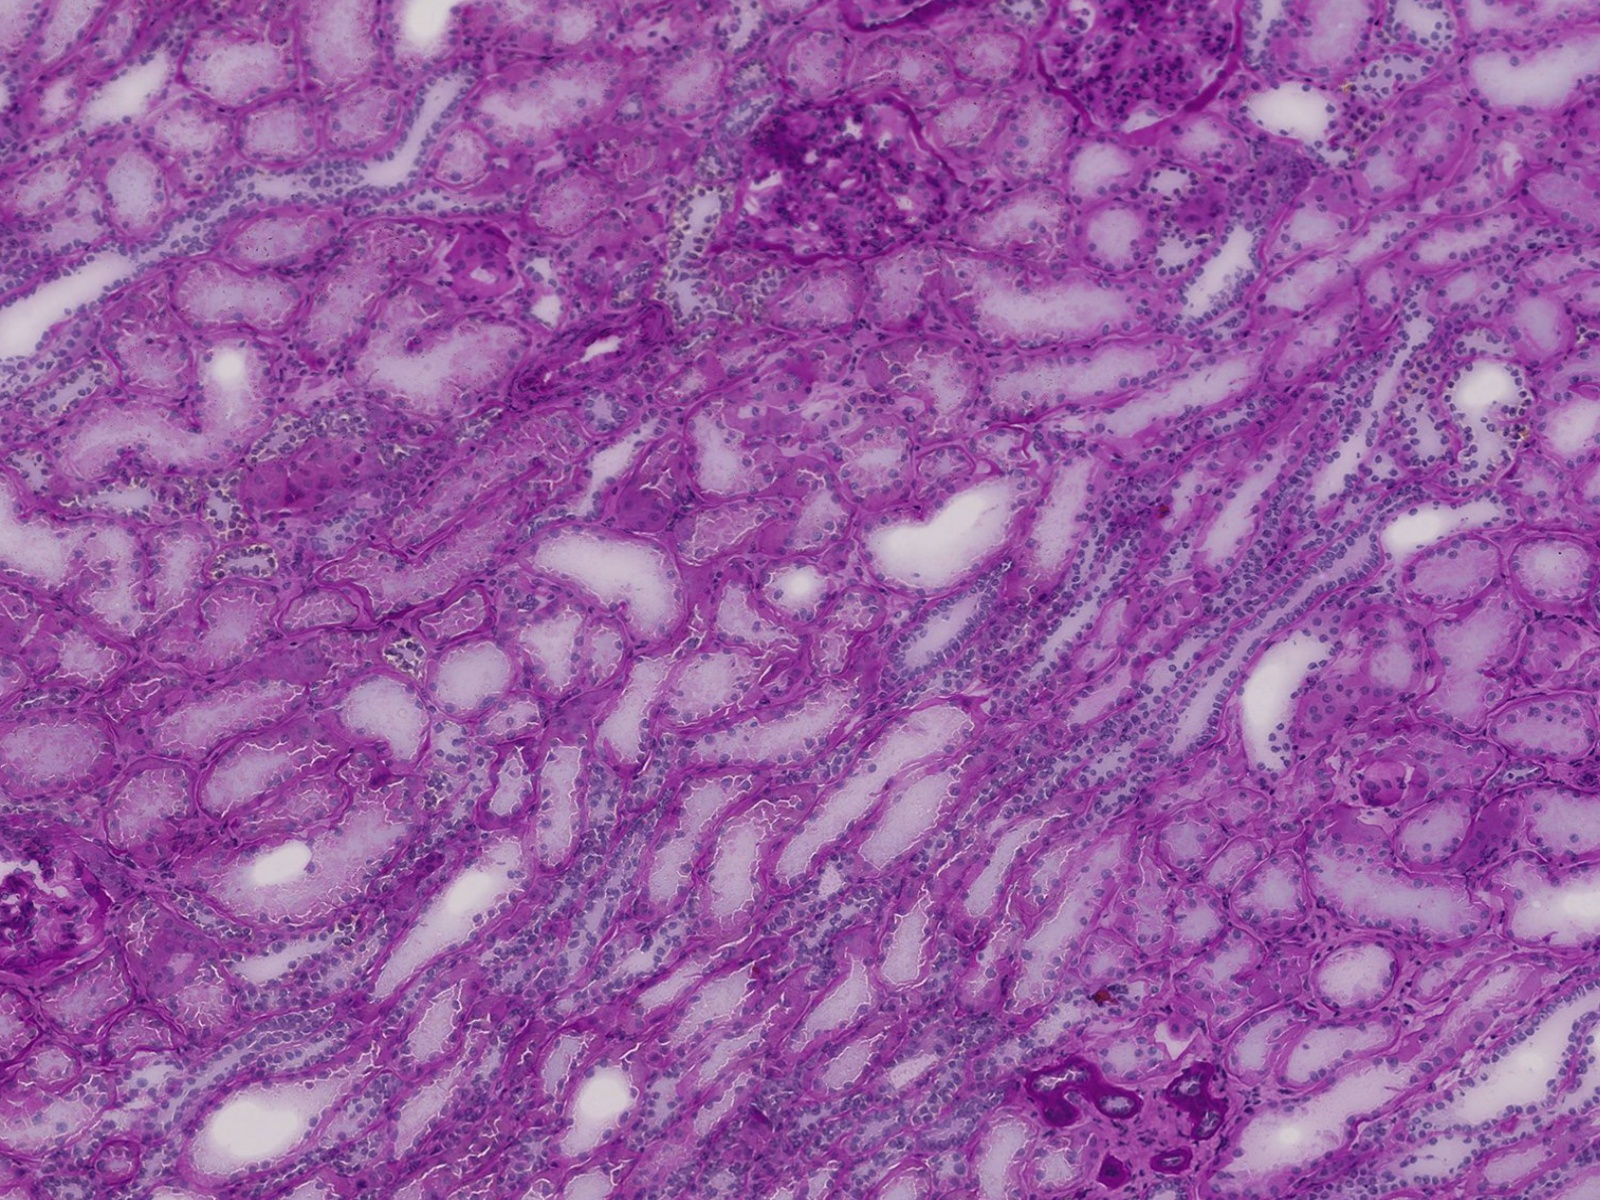Glomeruli: (724, 91, 971, 287), (1020, 3, 1262, 146), (1, 837, 134, 1002)
